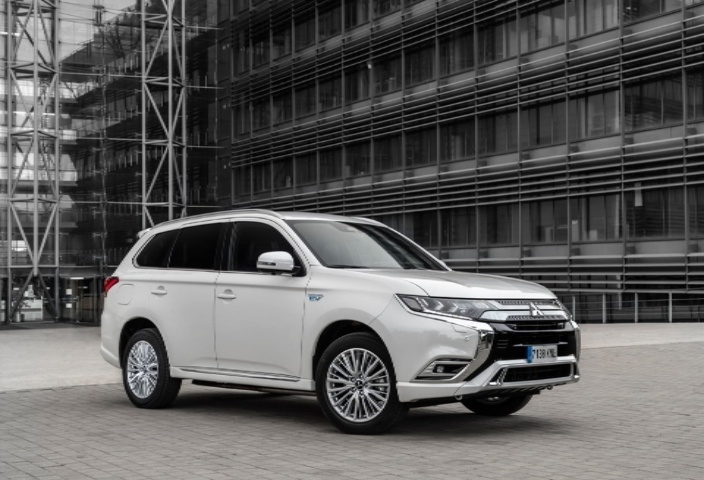camper: (82, 203, 595, 441)
